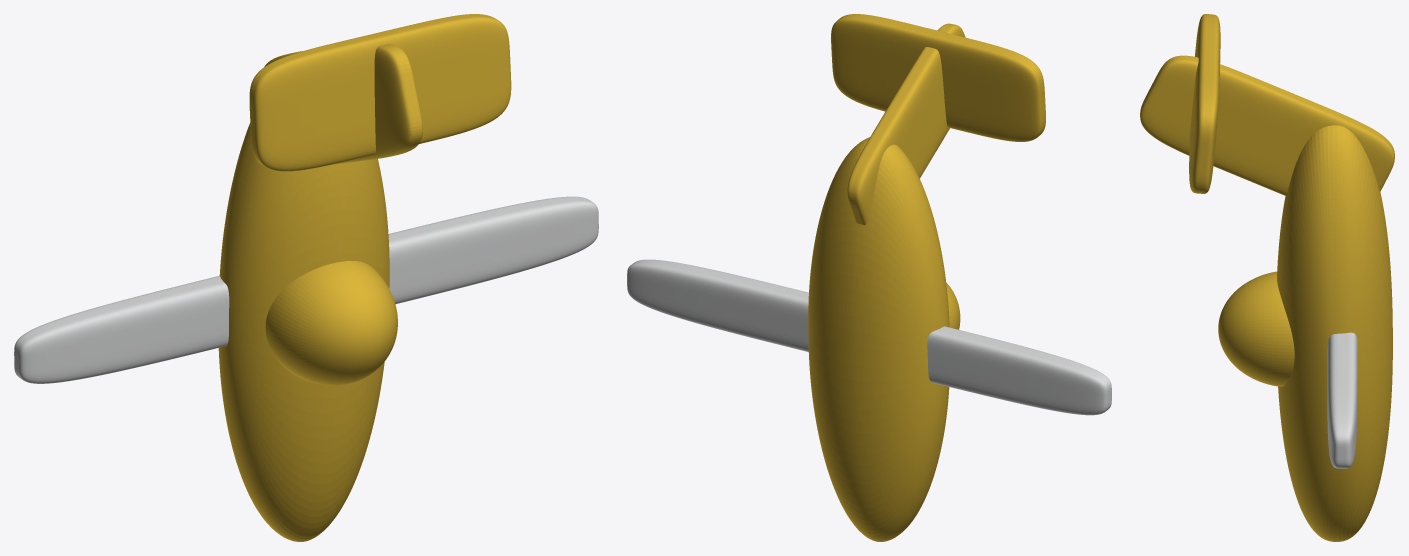
The picture shows the model from 3 angles, left to right: view 1: azimuth 30°, elevation 25°; view 2: azimuth 150°, elevation 25°; view 3: azimuth 270°, elevation 25°; orthographic projection. The views are drawn at different scales.
Visible parts, largest first — view 1: superquadric_3, superquadric_1, superquadric_2, superquadric_4, superquadric_0; view 2: superquadric_3, superquadric_1, superquadric_2, superquadric_0; view 3: superquadric_3, superquadric_0, superquadric_4, superquadric_2, superquadric_1.
Boxes of the visible parts, <box> form: superquadric_3: <box>218,123,389,541</box>; superquadric_1: <box>14,196,598,383</box>; superquadric_2: <box>249,14,511,171</box>; superquadric_4: <box>265,261,397,385</box>; superquadric_0: <box>264,44,422,164</box>; superquadric_3: <box>808,137,949,541</box>; superquadric_1: <box>627,259,1111,415</box>; superquadric_2: <box>831,14,1045,141</box>; superquadric_0: <box>847,23,965,225</box>; superquadric_3: <box>1277,125,1392,541</box>; superquadric_0: <box>1140,55,1394,195</box>; superquadric_4: <box>1218,271,1294,386</box>; superquadric_2: <box>1189,14,1220,193</box>; superquadric_1: <box>1327,332,1357,468</box>.
Size of the model in its own units: 1 by 0.9178 by 0.4349.
